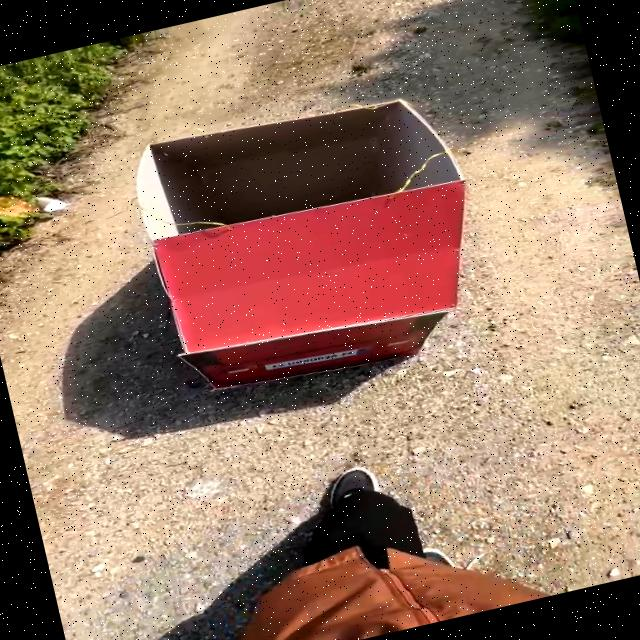red_car: (72, 67, 513, 430)
